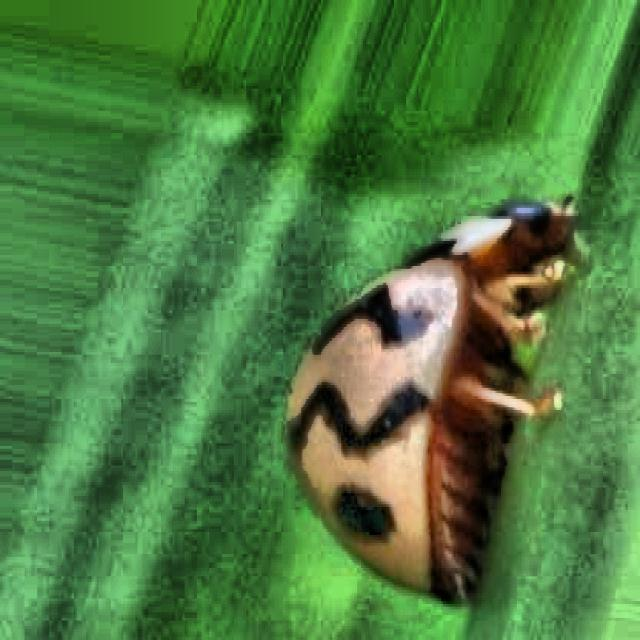Asian-Lady-beetle: (263, 178, 602, 640)
